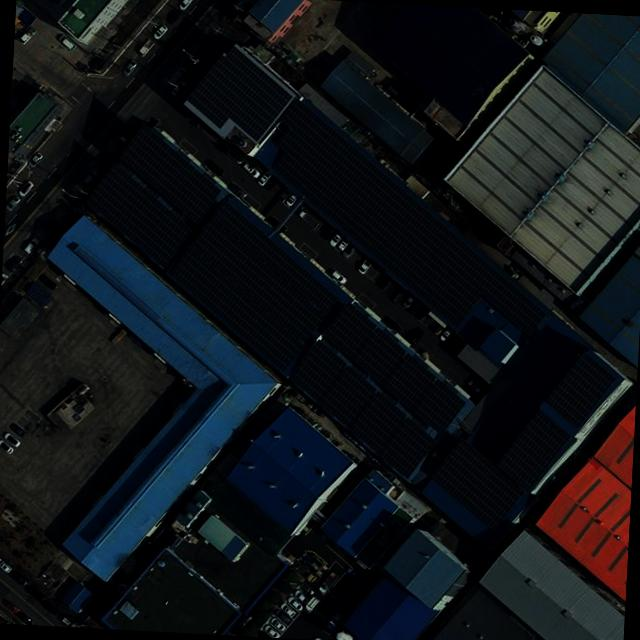solar: (262, 92, 560, 364), (162, 213, 332, 375), (204, 197, 343, 317), (79, 158, 197, 276), (113, 119, 226, 228), (183, 42, 296, 150), (426, 434, 531, 532), (492, 408, 576, 493), (540, 348, 622, 432), (286, 338, 348, 408), (347, 389, 410, 456), (317, 362, 378, 431), (378, 415, 436, 482), (409, 374, 470, 437), (380, 352, 440, 412), (321, 301, 380, 361), (350, 326, 408, 386)
